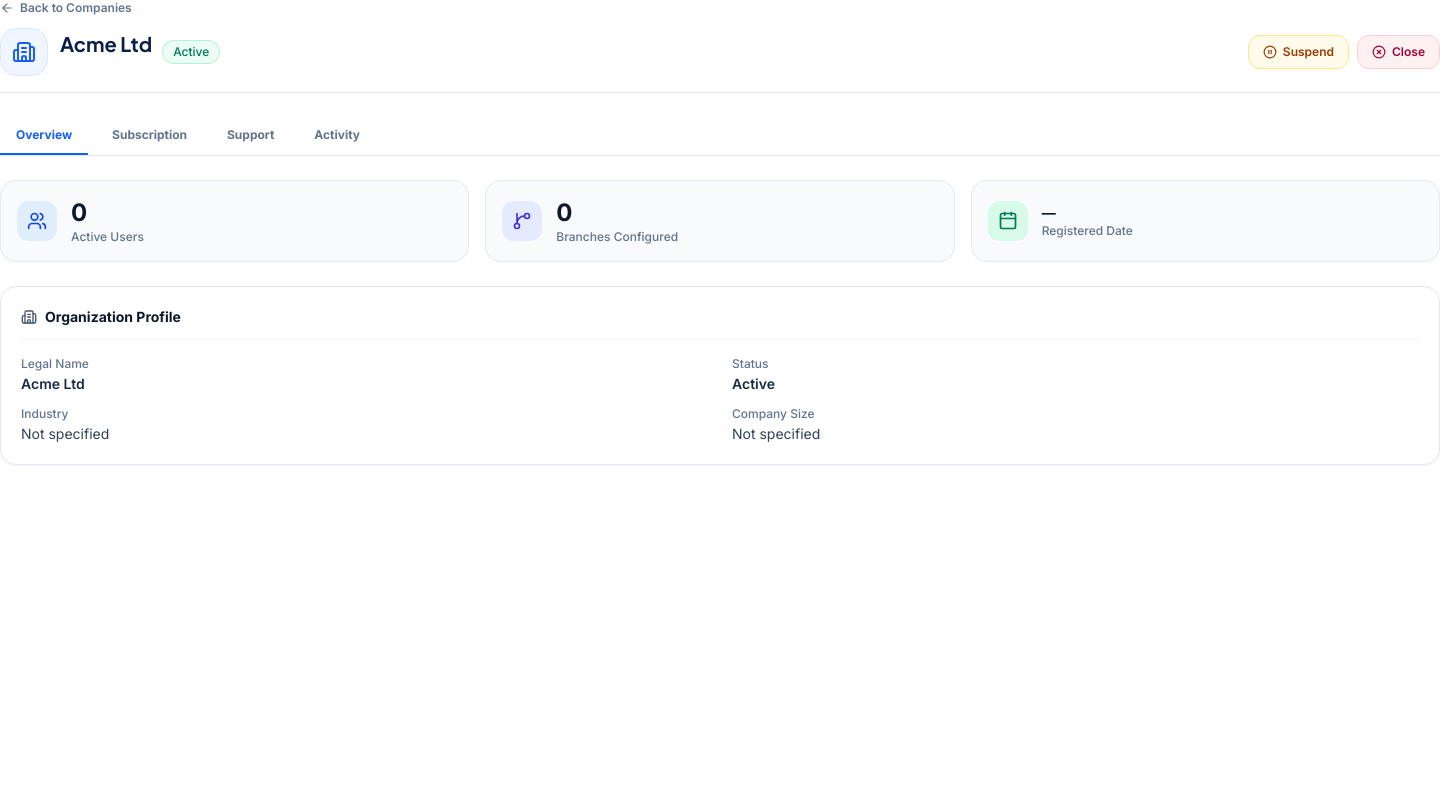
Scenario: CompanyDetail › grants support access from the Support tab and the company reloads
Click the button "Support".
click(251, 136)  # box [211,117,290,155]
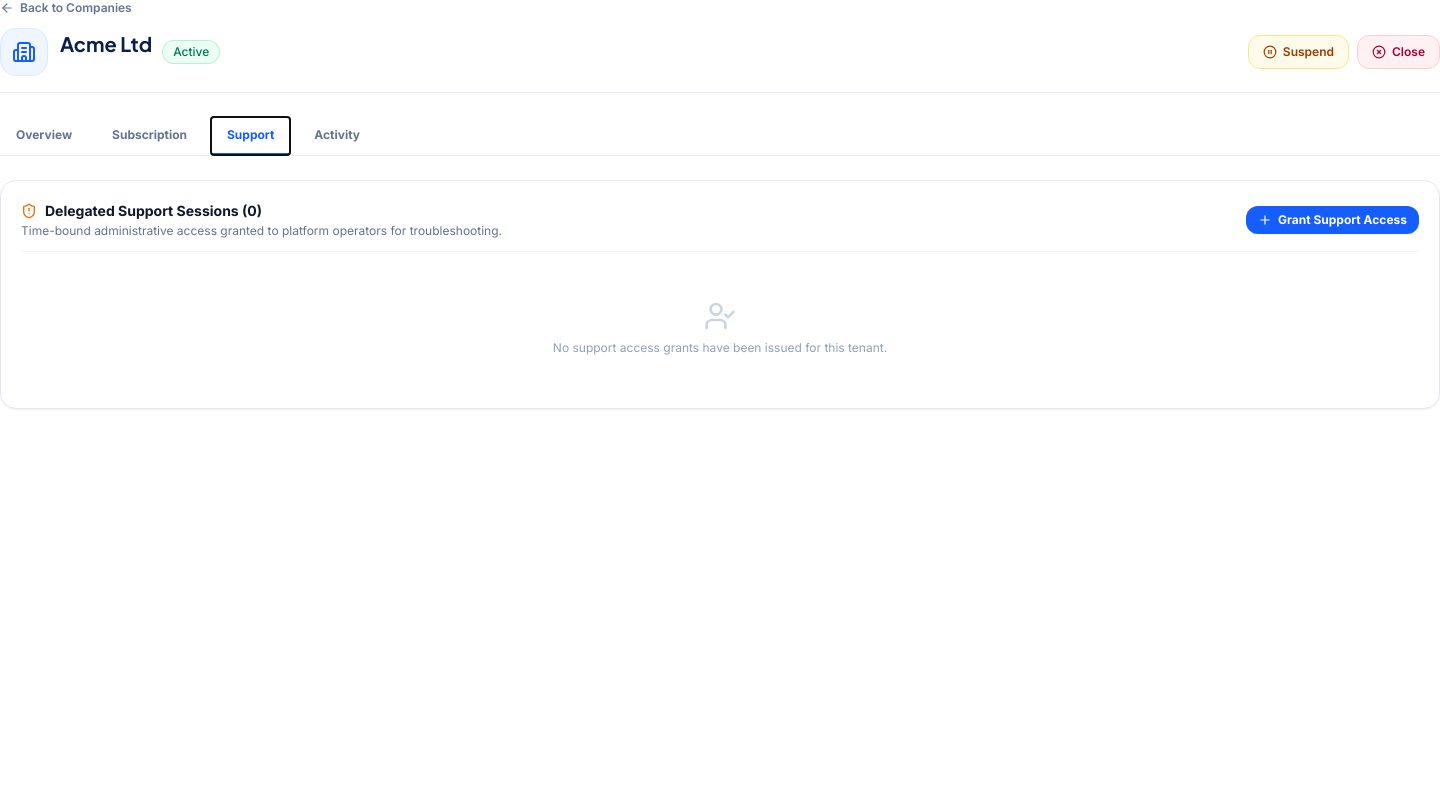
Click the button "Grant Support Access".
click(1332, 220)  # box [1246,206,1419,234]
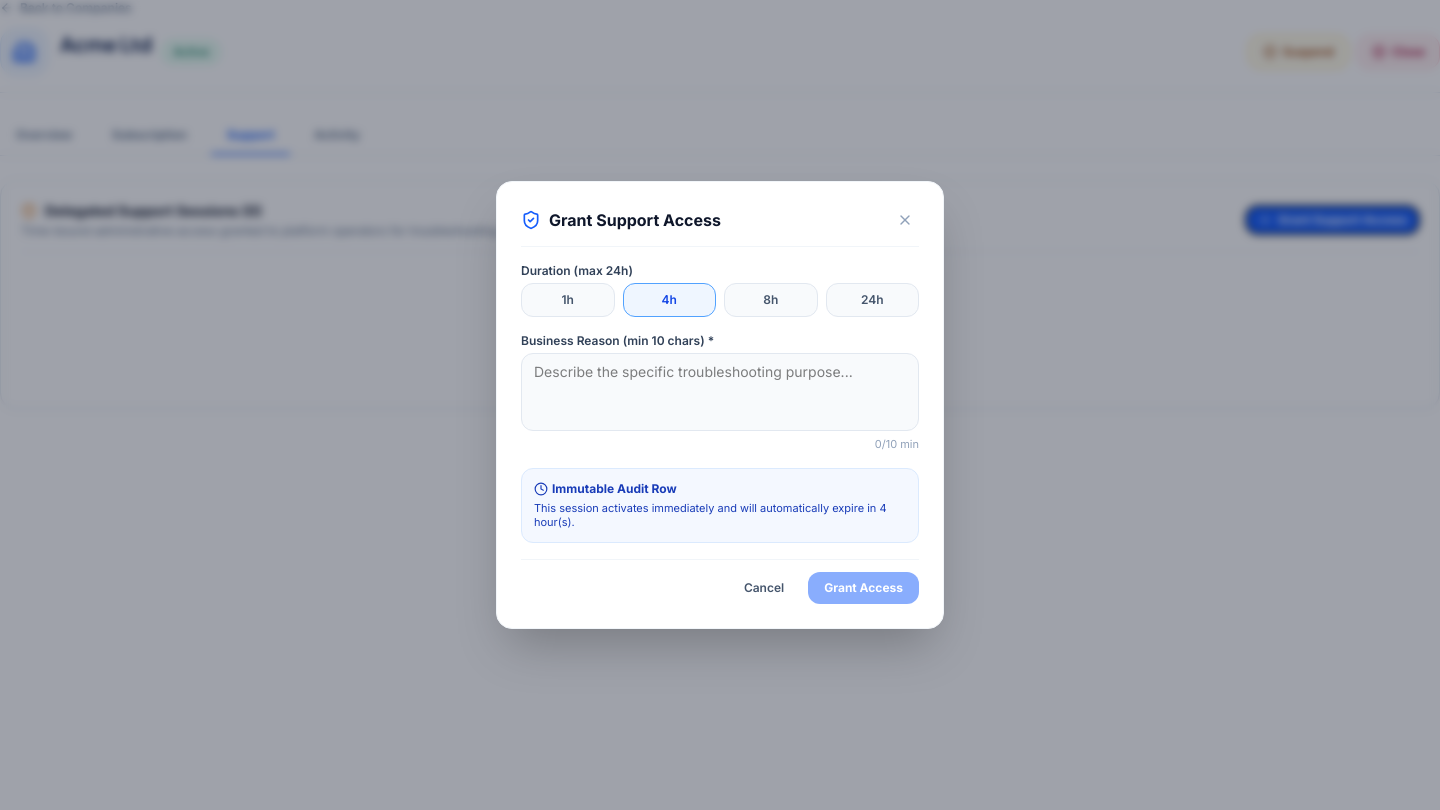
Type "Investigating a stuck workflow" into the text box.
click(720, 392); type("Investigating a stuck workflow")  # box [521,353,919,431]
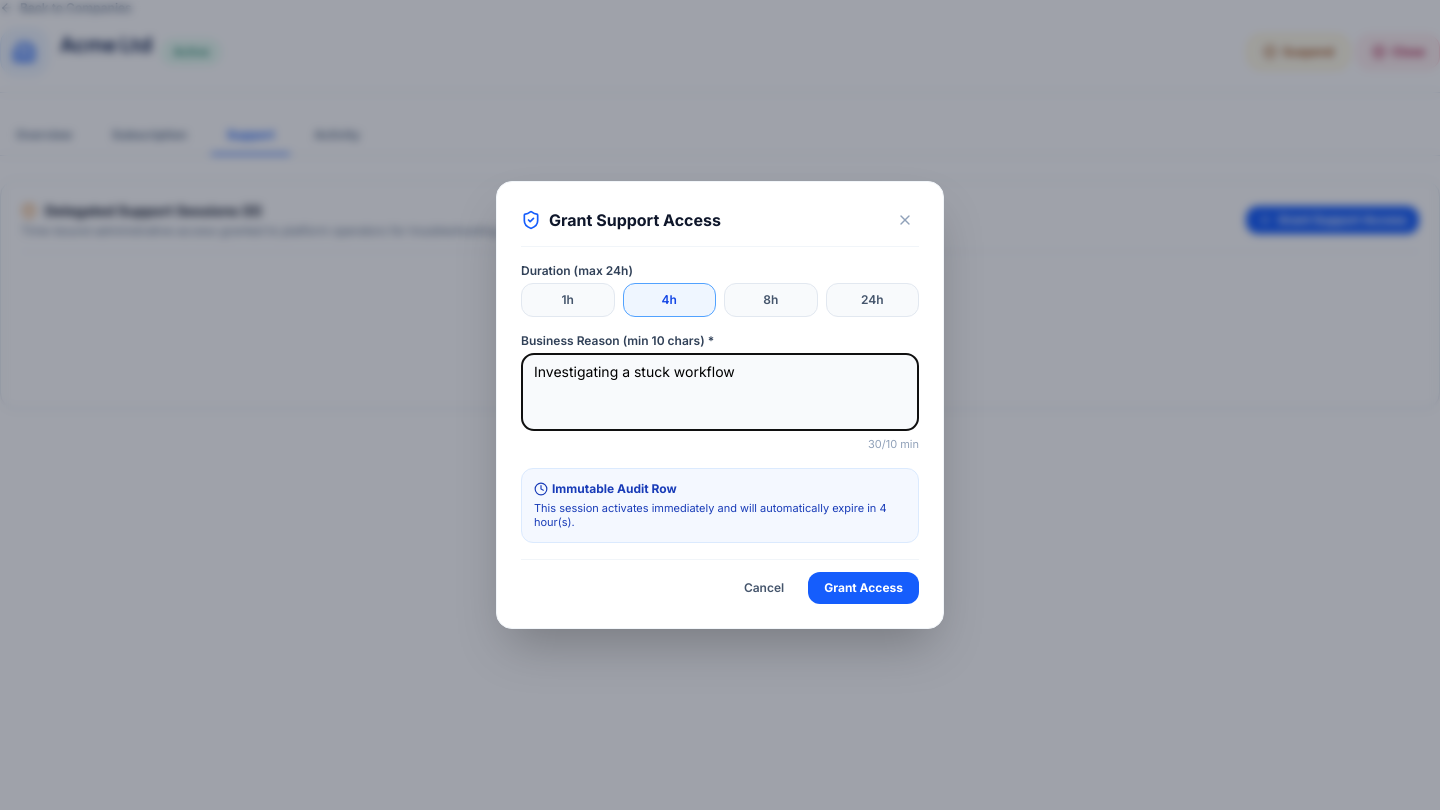
Click the button "Grant Access".
click(864, 588)  # box [808,572,919,604]
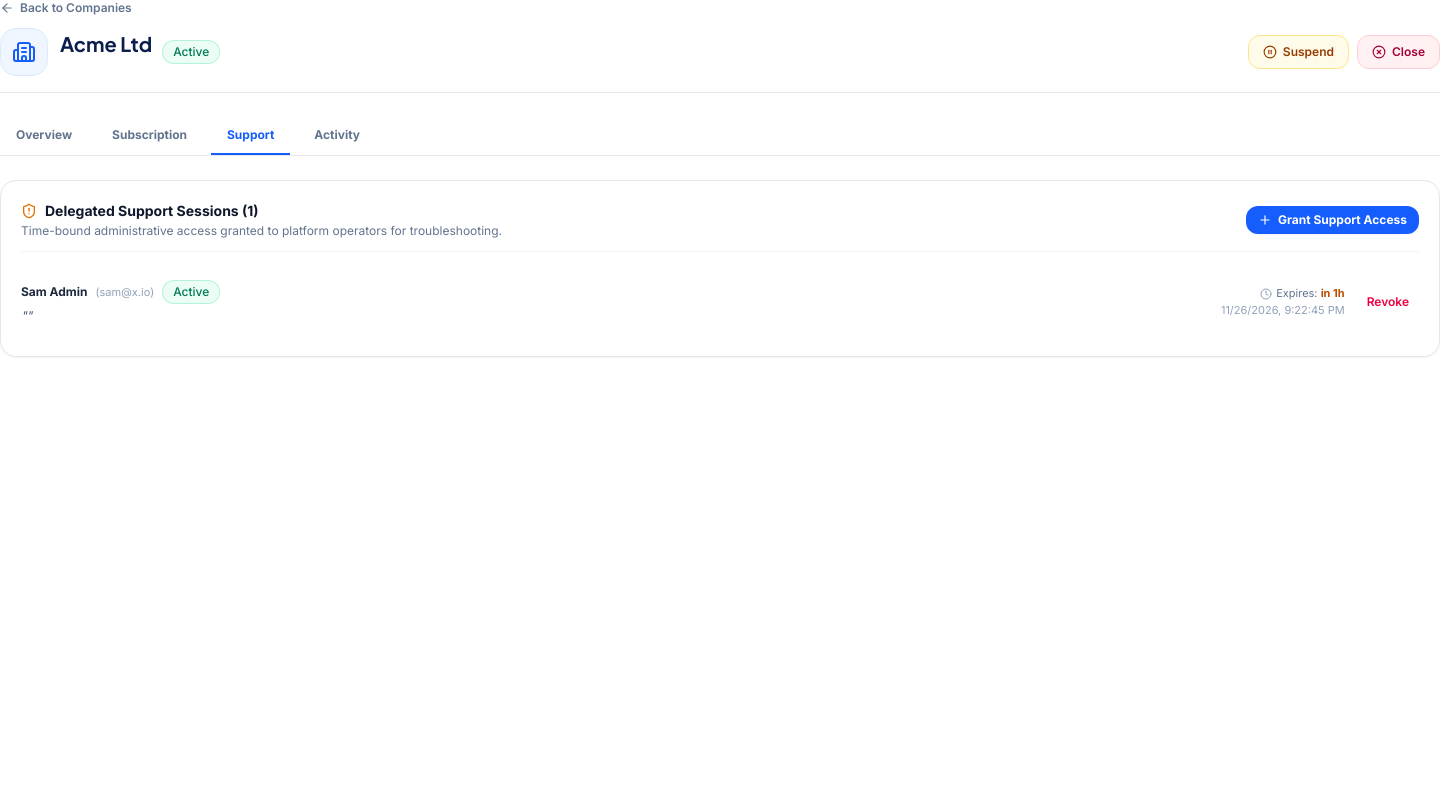
Expected: the text "Sam Admin" is shown, [21,284,88,300]
